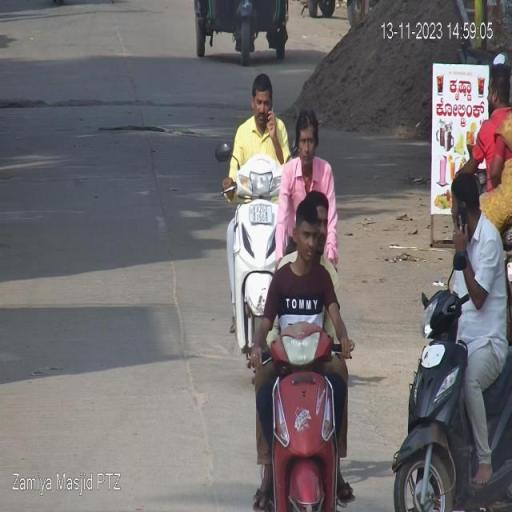using mobile: (453, 192, 473, 251), (267, 88, 277, 142)
